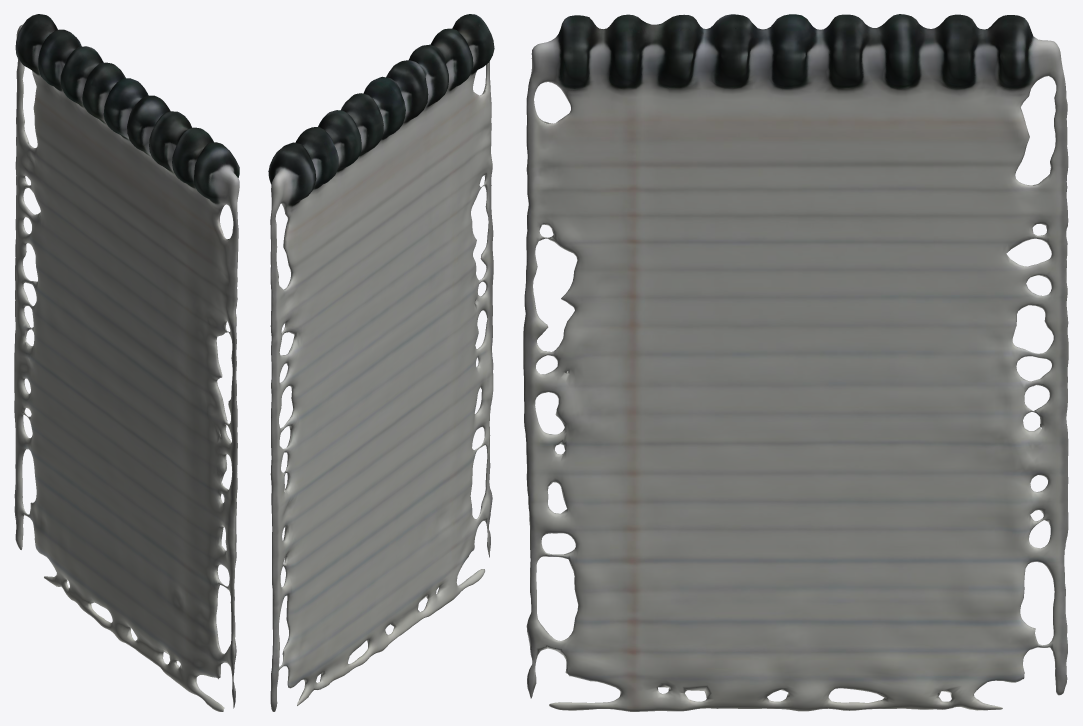
Rendered from e5e8b6c0ba89_note__3d_asset_0_gl.fbx.
3 views of the same model, side by side, from view 1: azimuth 30°, elevation 25°; view 2: azimuth 150°, elevation 25°; view 3: azimuth 270°, elevation 25° (orthographic). The views are drawn at different scales.
Parts seen in each view (by area): view 1: mesh; view 2: mesh; view 3: mesh.
Boxes of the visible parts, box(x1,y1,x2,y2) form: mesh: box(14, 14, 239, 711); mesh: box(268, 14, 494, 711); mesh: box(523, 14, 1068, 711).
Size of the model in its own units: 7.94 by 99.87 by 70.82.
